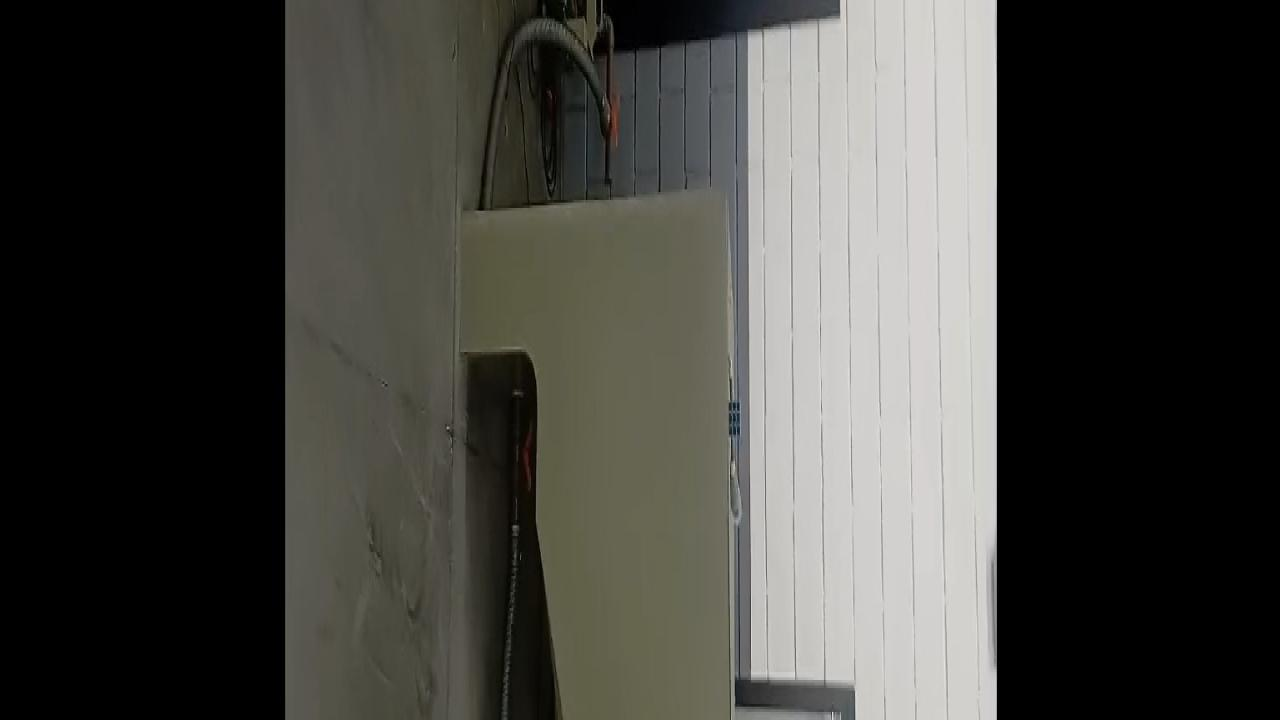Cube: (728, 390, 739, 444)
